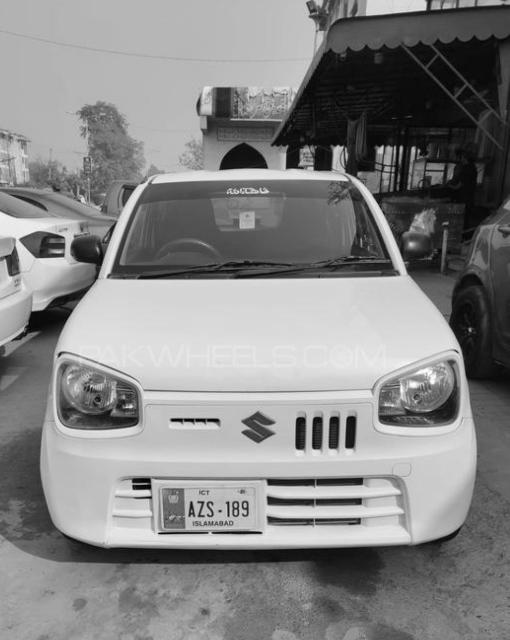Number: (190, 498, 254, 522)
